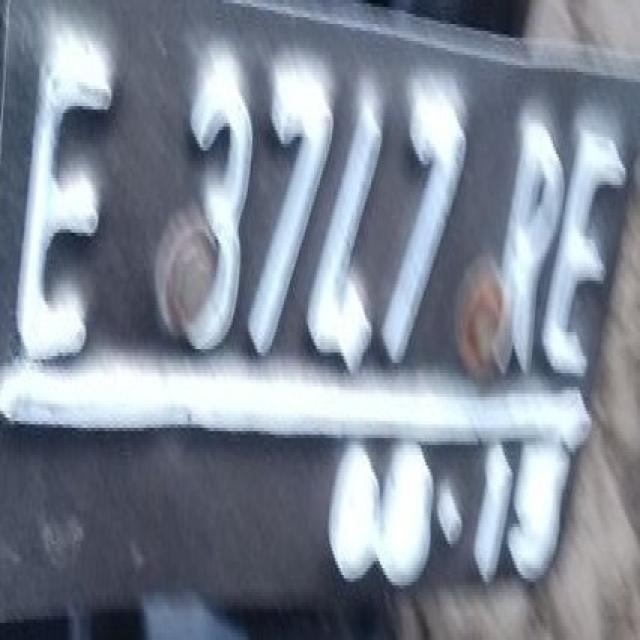plate: (2, 0, 636, 606)
